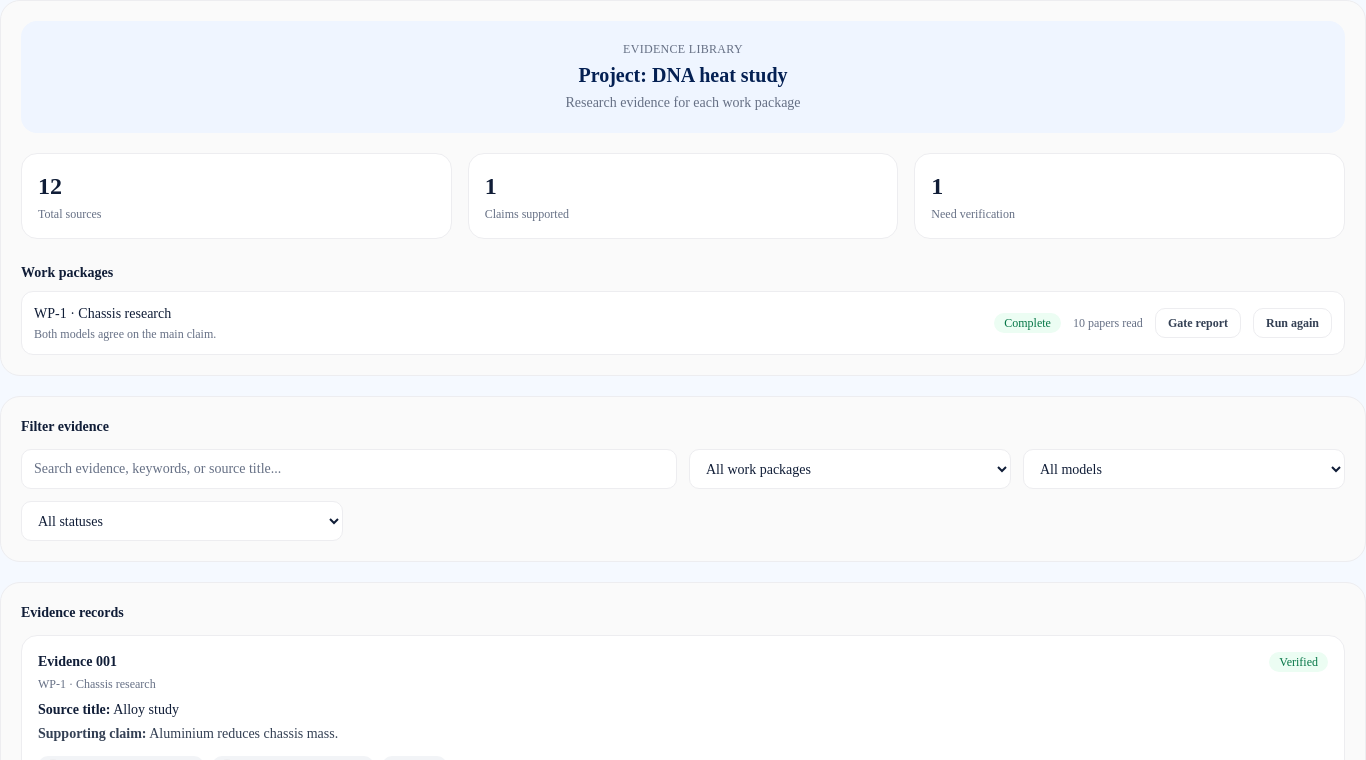
Test case: Evidence Library › stays on the page when the run cannot start
This screenshot has width=1366, height=760.
What coordinates should you click on to do the following:
click the button "Run again"
I would click on:
 (1292, 323)
Its box is [1253,308,1332,338].
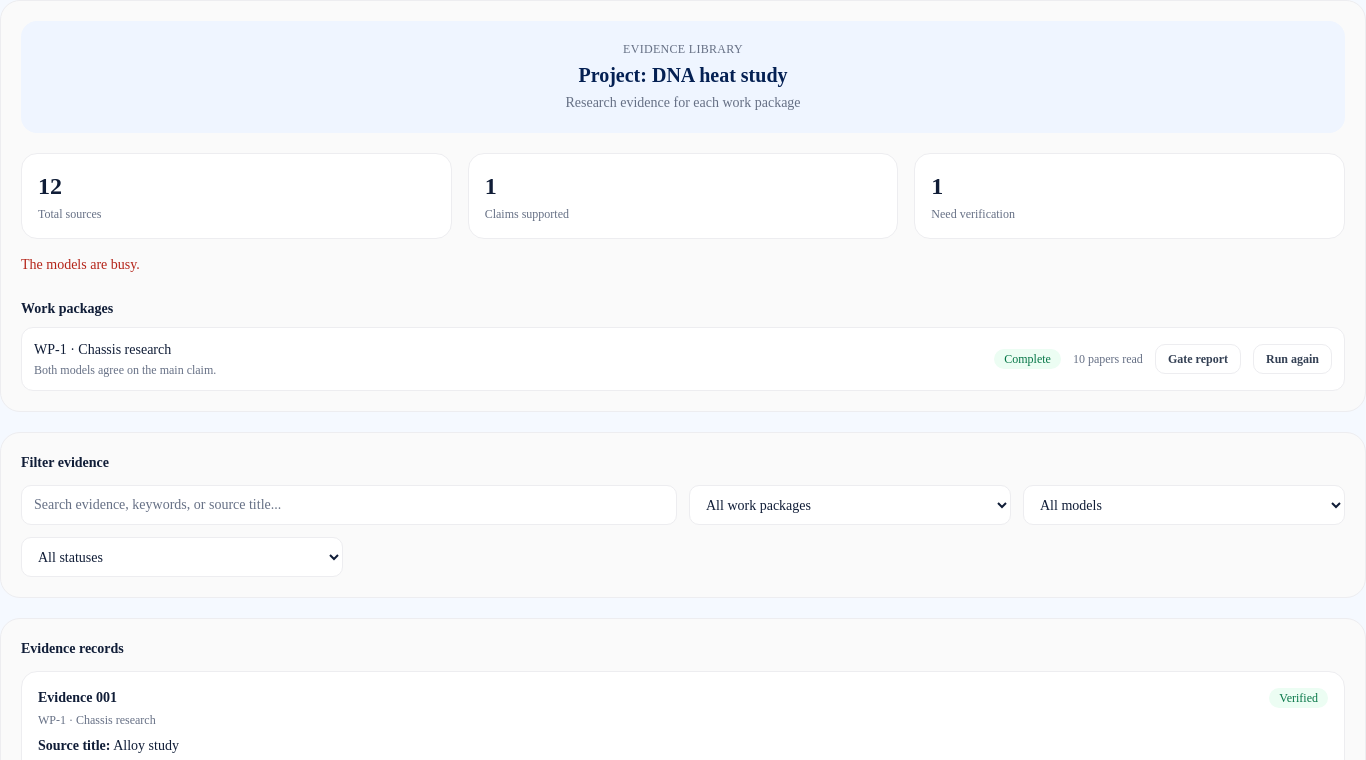
Now the message reads "The models are busy.", box [21,257,140,272]
